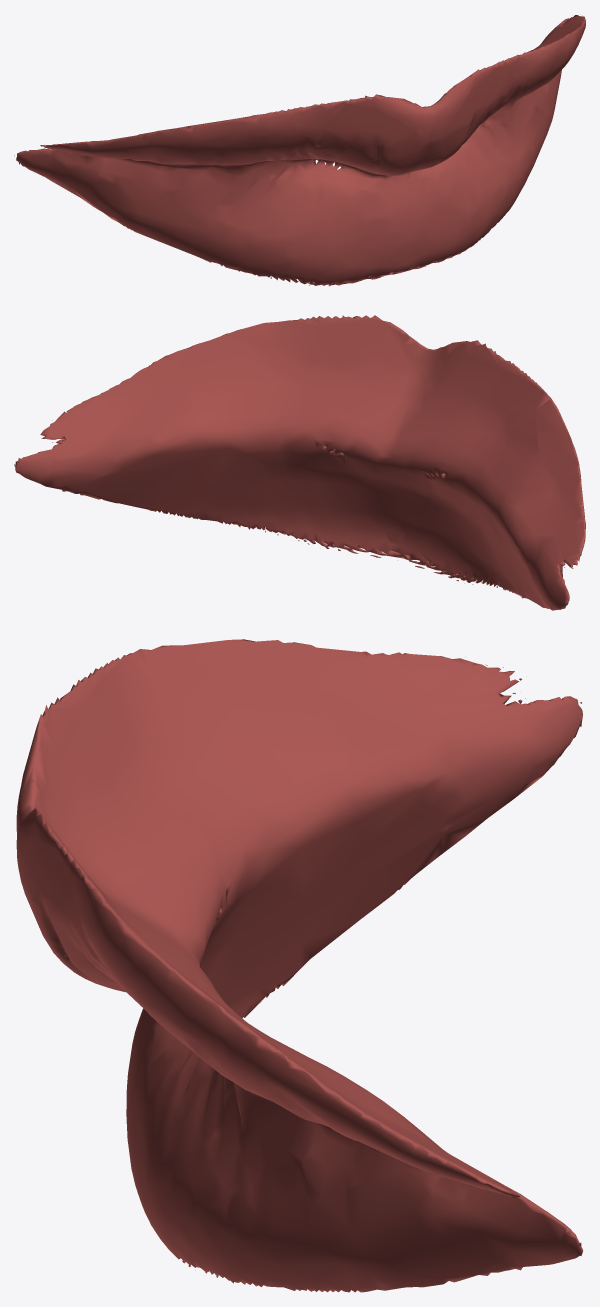
File: FMA59815nsn.glb
3 views of the same model, one above another, from view 1: azimuth 30°, elevation 25°; view 2: azimuth 150°, elevation 25°; view 3: azimuth 270°, elevation 25° (orthographic). The views are drawn at different scales.
Visible parts, largest first — view 1: FMA59815nsn; view 2: FMA59815nsn; view 3: FMA59815nsn.
Part boxes in pixels (box(x1,y1,x2,y2)): FMA59815nsn: box(14, 15, 585, 286); FMA59815nsn: box(14, 315, 585, 610); FMA59815nsn: box(16, 639, 583, 1292).
Size of the model in its own units: 0.0465 by 0.0171 by 0.0206.
